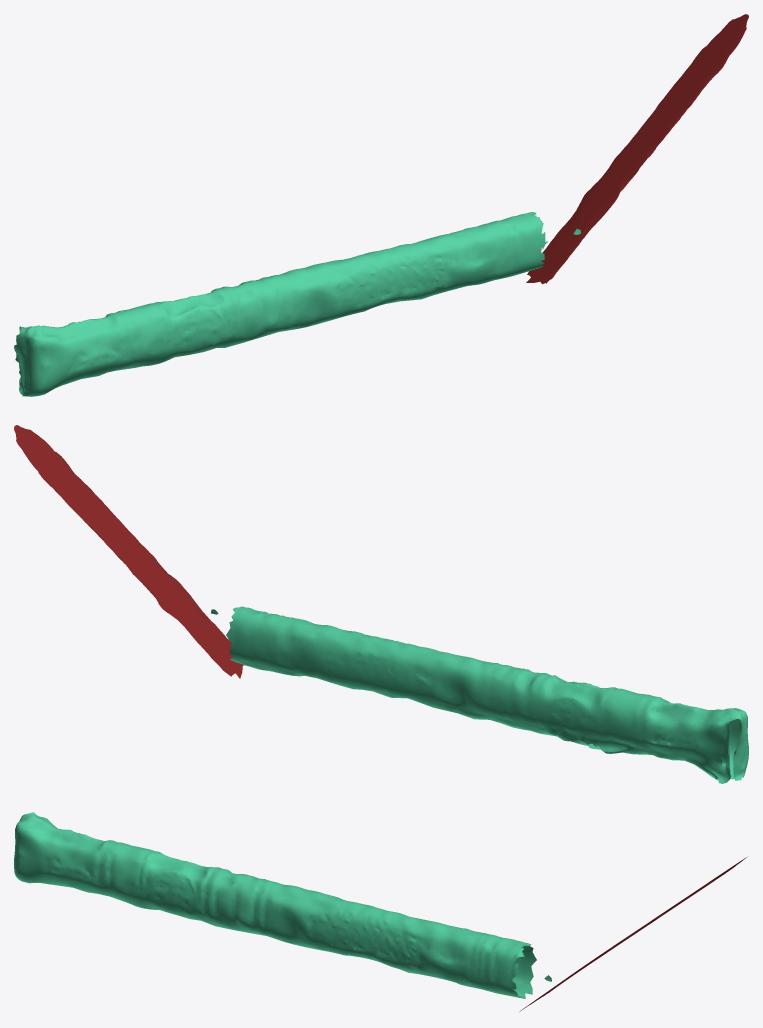
File: object_deformed_0.obj
The picture shows the model from 3 angles, top to bottom: view 1: azimuth 30°, elevation 25°; view 2: azimuth 150°, elevation 25°; view 3: azimuth 330°, elevation 25°; orthographic projection. The views are drawn at different scales.
Size of the model in its own units: 0.5862 by 0.1584 by 0.0483.
